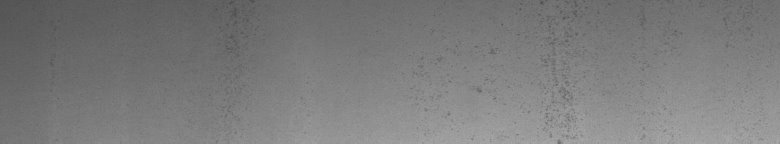ib: (437, 4, 584, 132)
